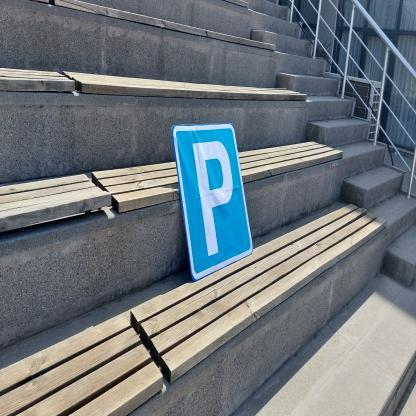parking: (173, 129, 253, 280)
